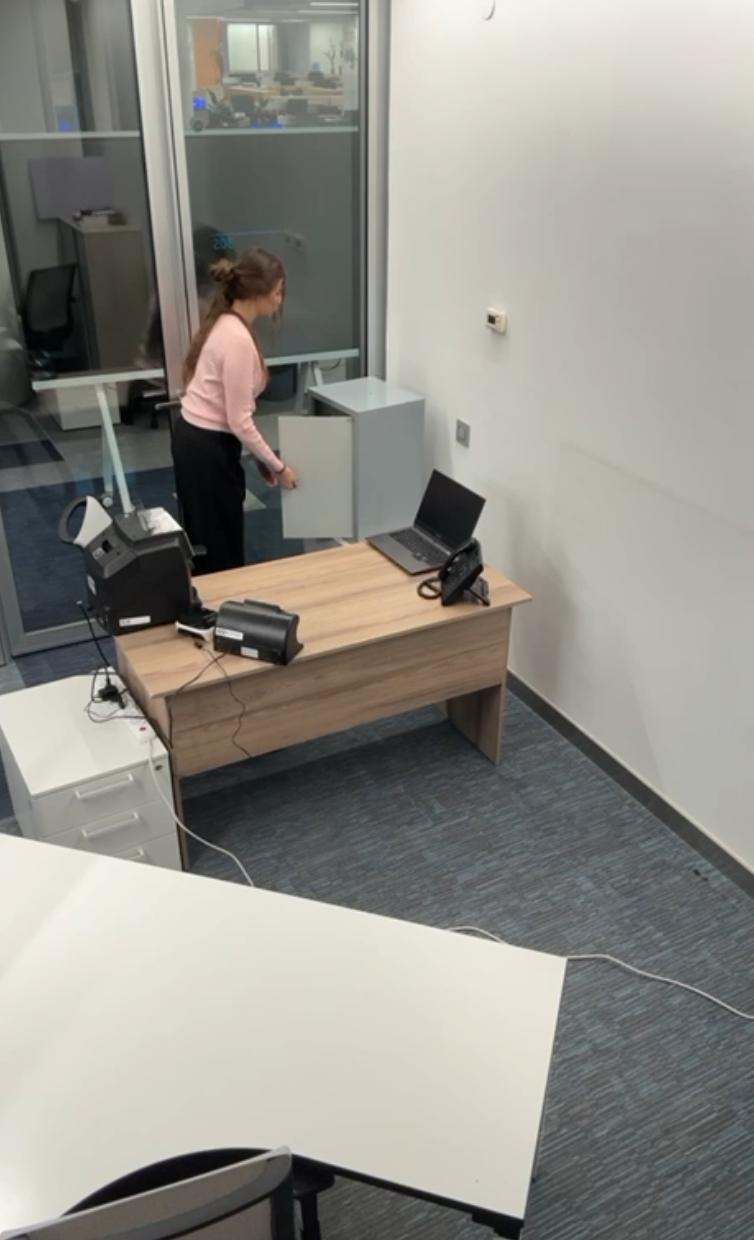counter: (81, 508, 197, 634)
safe_open: (274, 379, 424, 537)
uv_lamp: (212, 600, 303, 667)
